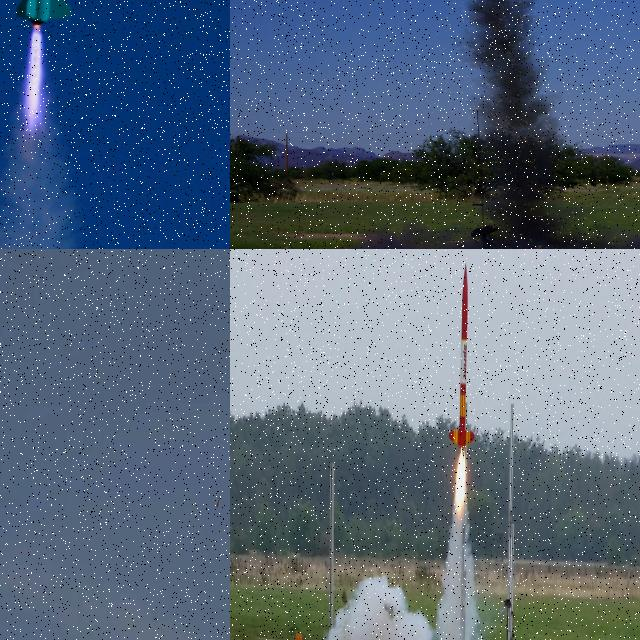Rocket: (449, 262, 476, 450), (217, 496, 220, 507)
